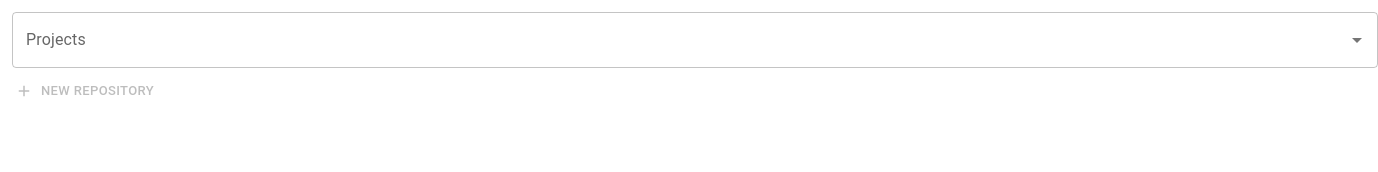
Scenario: ProjectPicker › says why there is nothing remote, and disables New repository with that reason
The width and height of the screenshot is (1378, 172).
Click the dropdown labelled "Projects" at [680, 40], box [21,21,1339,59]
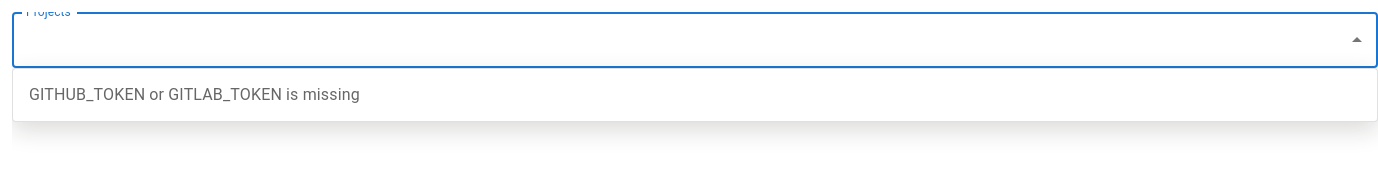
Expected: the button "New repository" is disabled, [12,76,159,107]
Expected: the text "GITHUB_TOKEN or GITLAB_TOKEN is missing" is shown, [29,85,360,104]
